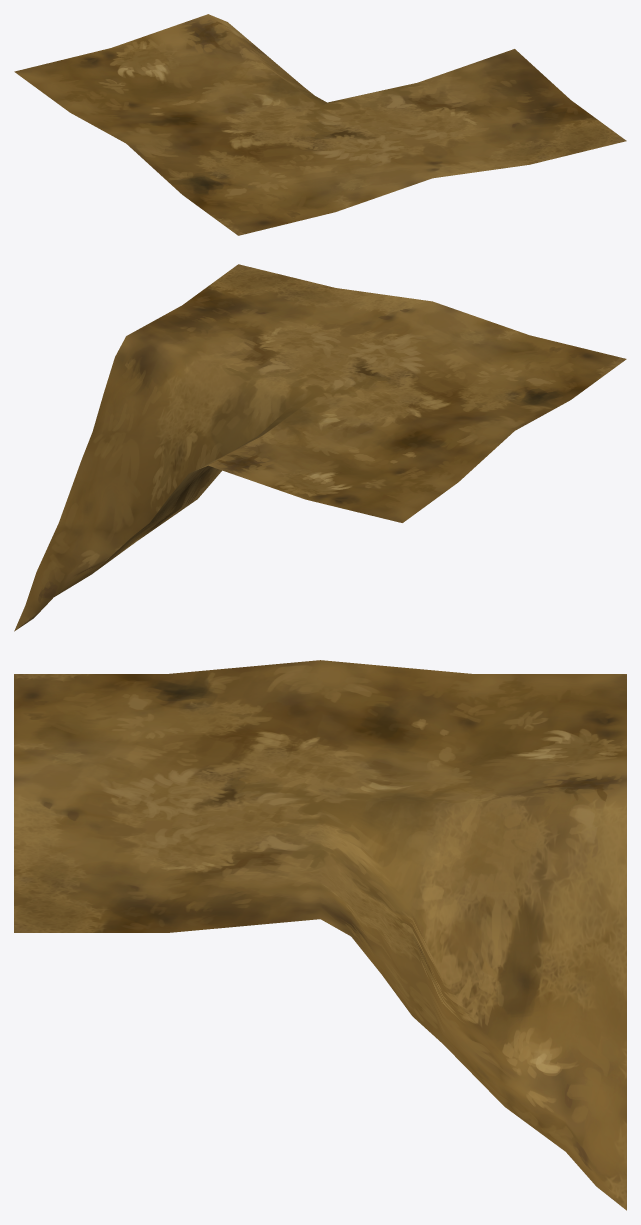
File: Levelled_Slope_Incline_003.fbx
3 renders of one model, top to bottom at view 1: azimuth 30°, elevation 25°; view 2: azimuth 150°, elevation 25°; view 3: azimuth 270°, elevation 25°, orthographic. The views are drawn at different scales.
Parts seen in each view (by area): view 1: Levelled_Slope_Incline_003; view 2: Levelled_Slope_Incline_003; view 3: Levelled_Slope_Incline_003.
Part boxes in pixels (x1,y1,x2,y2): Levelled_Slope_Incline_003: (14, 14, 626, 235); Levelled_Slope_Incline_003: (14, 264, 626, 631); Levelled_Slope_Incline_003: (14, 660, 626, 1210).
Size of the model in its own units: 10 by 5.25 by 10.
1 material, 1 textured.
